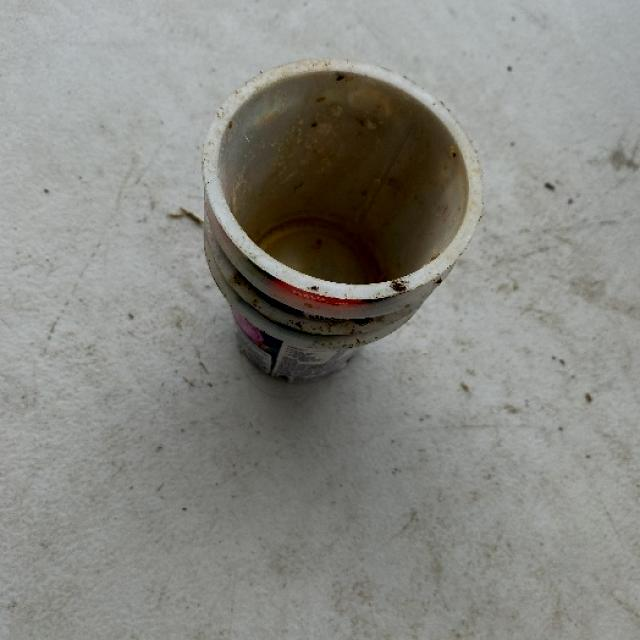inorganic: (198, 60, 484, 391)
